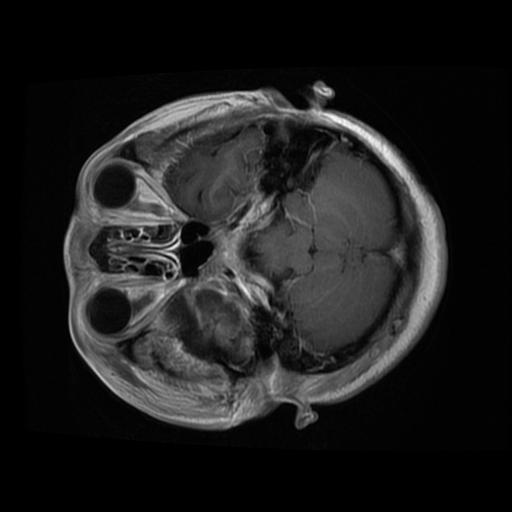glioma: (168, 288, 250, 367)
